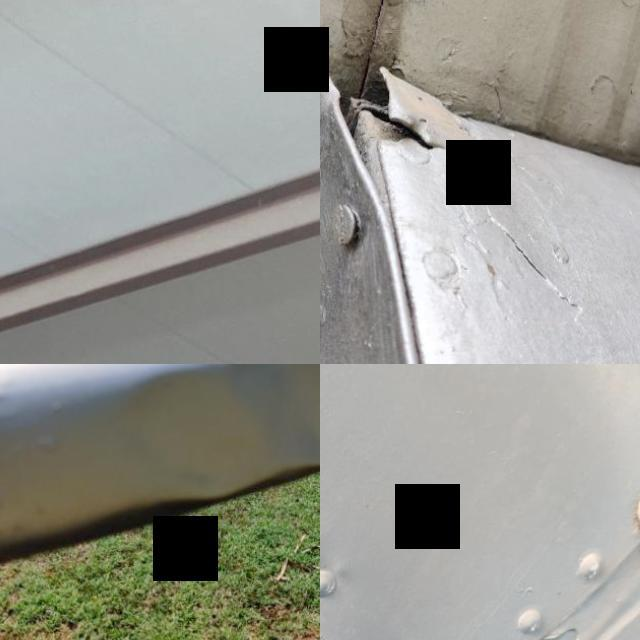Crack: (354, 62, 461, 180)
Dent: (87, 364, 320, 523)
